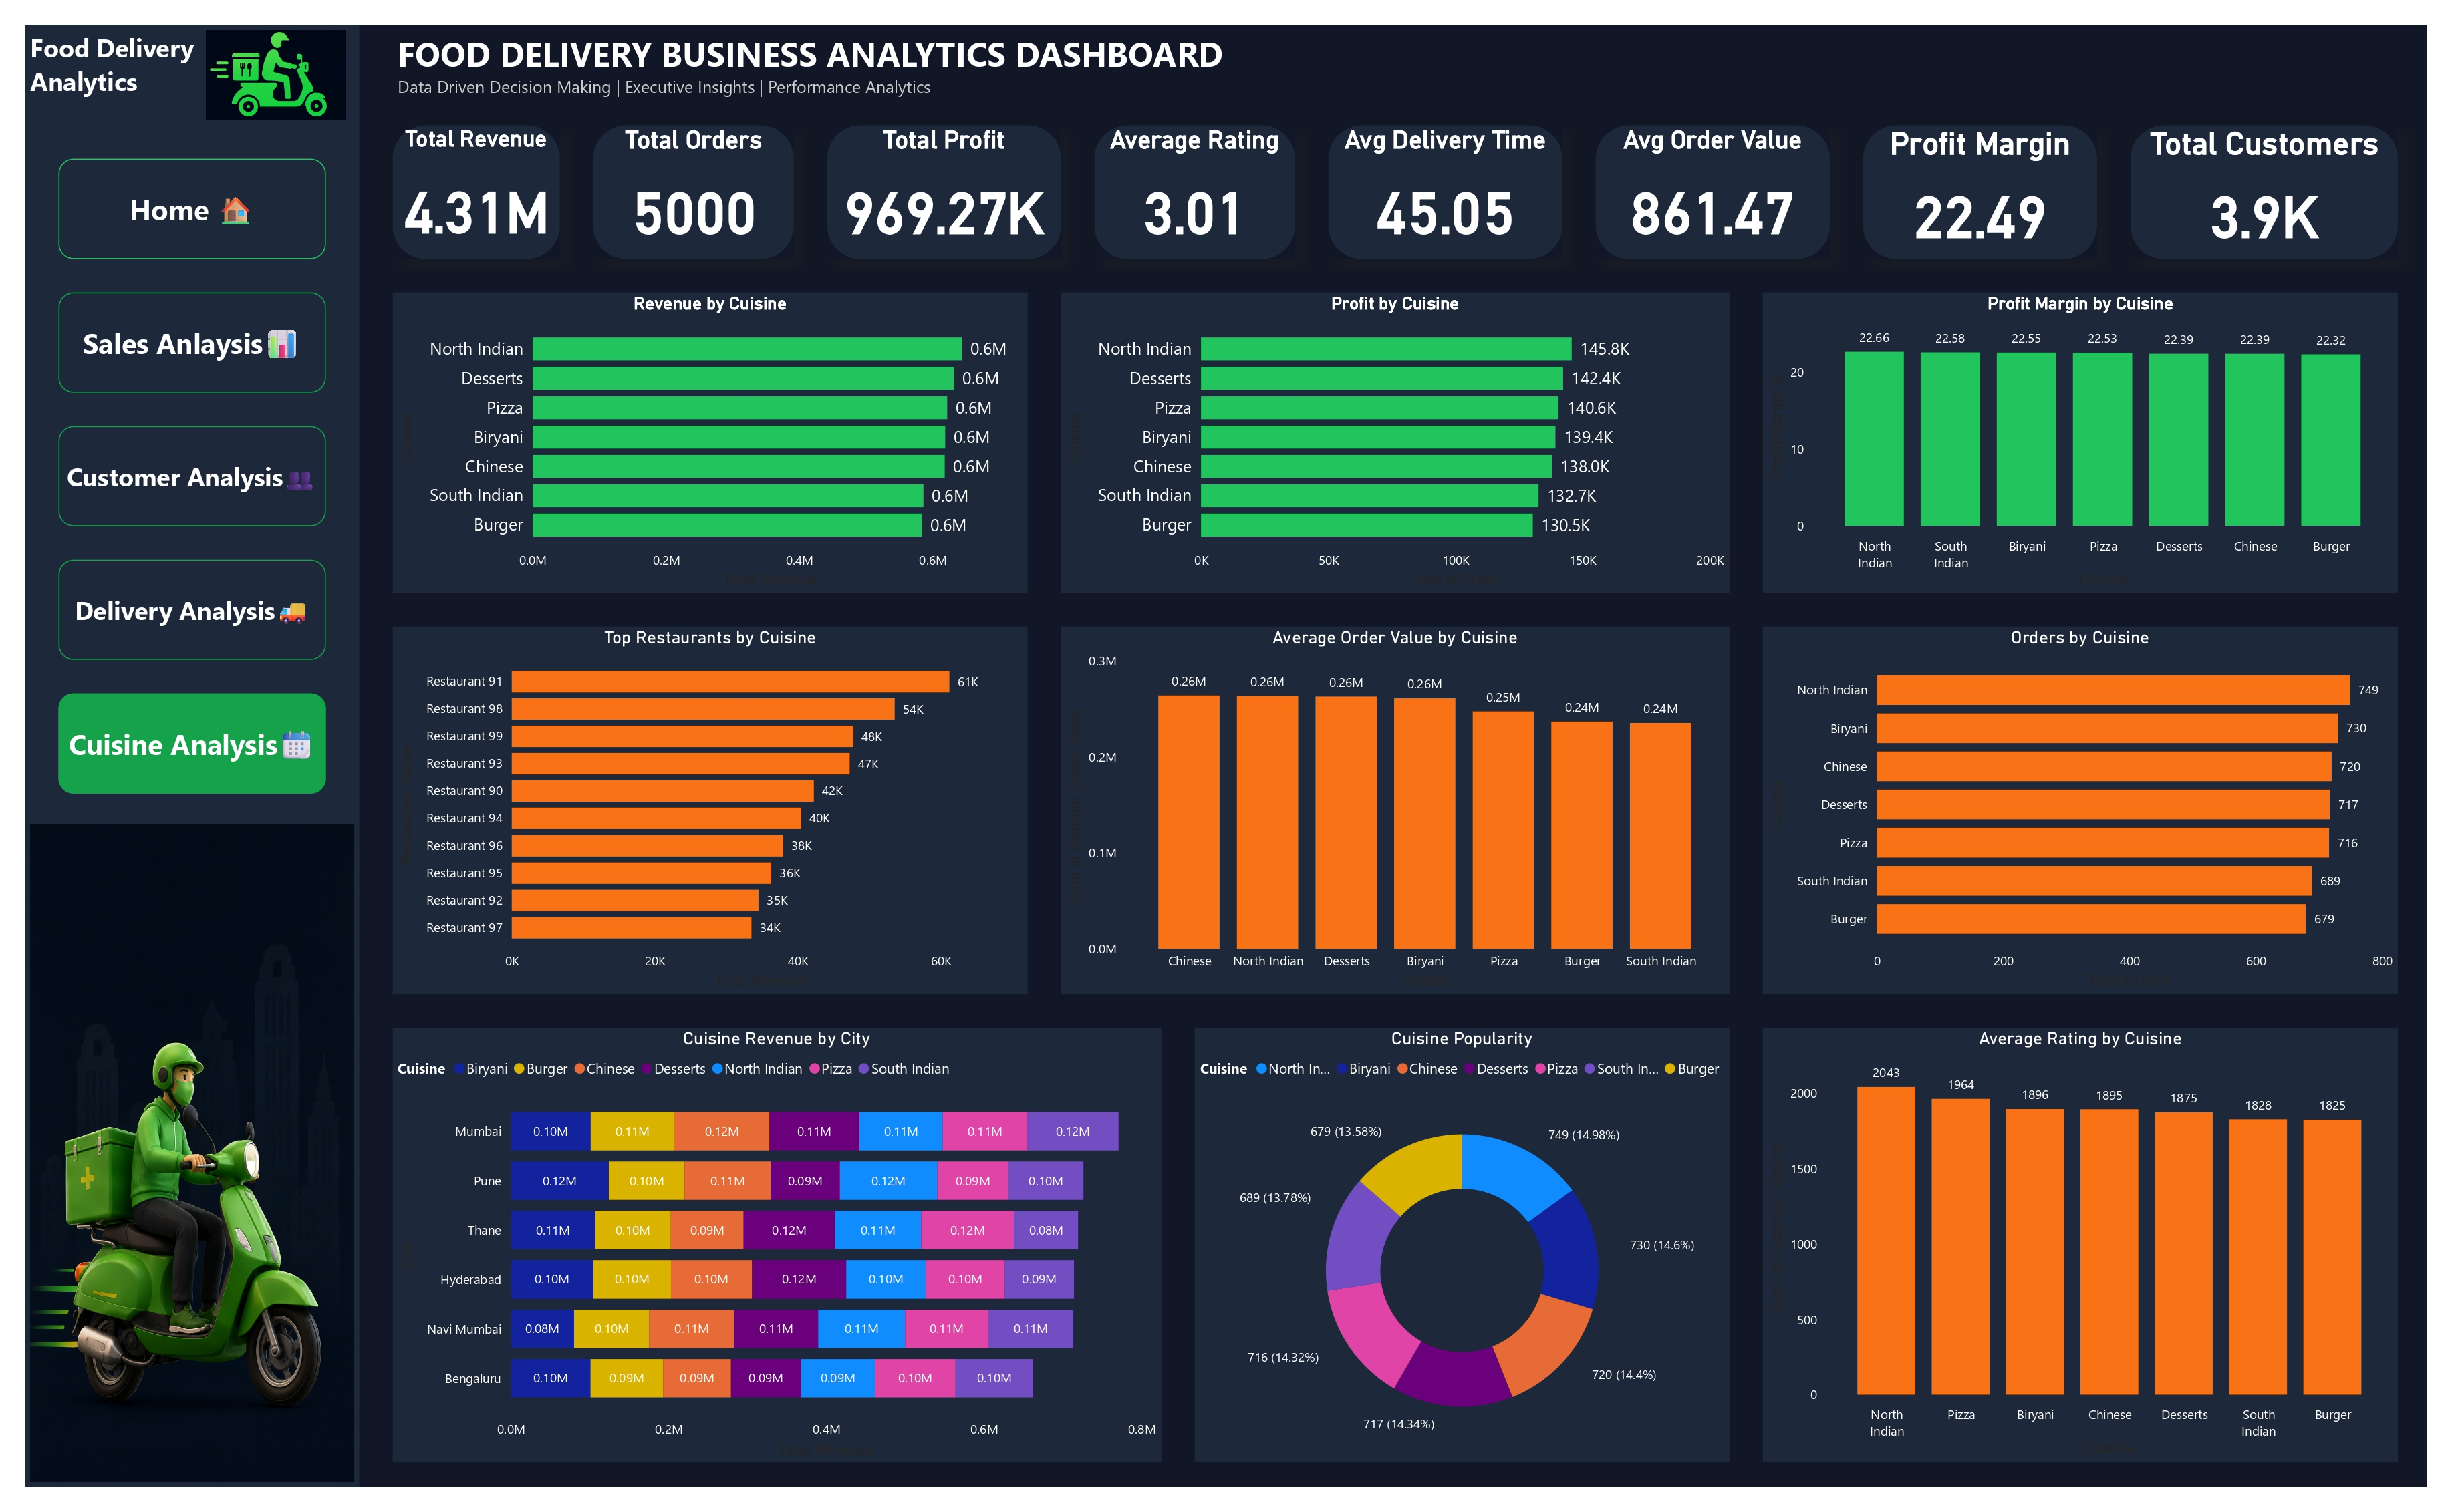

The page's visual inventory and layout, read from the dashboard file:
{"tool":"powerbi","page":{"name":"Cuisine Analysis📆","canvas":[2300,1400],"ordinal":4},"visuals":[{"type":"textbox","box":[352,0,1664,320],"z":0},{"type":"shape","box":[352,96,160,128],"z":1000},{"type":"shape","box":[2016,96,256,128],"z":2000},{"type":"shape","box":[1760,96,224,128],"z":3000},{"type":"shape","box":[1504,96,224,128],"z":4000},{"type":"shape","box":[1248,96,224,128],"z":5000},{"type":"shape","box":[1024,96,192,128],"z":6000},{"type":"shape","box":[768,96,224,128],"z":7000},{"type":"shape","box":[544,96,192,128],"z":8000},{"type":"card","title":"Total Revenue","fields":{"Values":["food_delivery_clean_updated.Total Revenue"]},"box":[352,96,160,128],"z":9000},{"type":"card","title":"Total Orders","fields":{"Values":["food_delivery_clean_updated.Total Orders"]},"box":[544,96,192,128],"z":10000},{"type":"card","title":"Total Profit","fields":{"Values":["food_delivery_clean_updated.Total Profit"]},"box":[768,96,224,128],"z":11000},{"type":"card","title":"Avg Order Value","fields":{"Values":["food_delivery_clean_updated.Average Order Value"]},"box":[1504,96,224,128],"z":12000},{"type":"card","title":"Average Rating","fields":{"Values":["food_delivery_clean_updated.Average Rating"]},"box":[1024,96,192,128],"z":13000},{"type":"card","title":"Avg Delivery Time","fields":{"Values":["food_delivery_clean_updated.Avg Delivery Time"]},"box":[1248,96,224,128],"z":14000},{"type":"card","title":"Profit Margin ","fields":{"Values":["food_delivery_clean_updated.Profit Margin %"]},"box":[1760,96,224,128],"z":15000},{"type":"card","title":"Total Customers","fields":{"Values":["food_delivery_clean_updated.Total Customers"]},"box":[2016,96,256,128],"z":16000},{"type":"clusteredBarChart","title":"Revenue by Cuisine","fields":{"Category":["food_delivery_clean_updated.Cuisine"],"Y":["food_delivery_clean_updated.Total Revenue"]},"box":[352,256,608,288],"z":18000},{"type":"clusteredColumnChart","title":"Average Rating by Cuisine","fields":{"Category":["food_delivery_clean_updated.Cuisine"],"Y":["Sum(food_delivery_clean_updated.Customer_Rating)"]},"box":[1664,960,608,416],"z":19000},{"type":"clusteredBarChart","title":"Orders by Cuisine","fields":{"Category":["food_delivery_clean_updated.Cuisine"],"Y":["food_delivery_clean_updated.Total Orders"]},"box":[1664,576,608,352],"z":20000},{"type":"donutChart","title":"Cuisine Popularity","fields":{"Category":["food_delivery_clean_updated.Cuisine"],"Y":["CountNonNull(food_delivery_clean_updated.Order_ID)"]},"box":[1120,960,512,416],"z":24000},{"type":"clusteredColumnChart","title":"Profit Margin by Cuisine","fields":{"Category":["food_delivery_clean_updated.Cuisine"],"Y":["food_delivery_clean_updated.Profit Margin %"]},"box":[1664,256,608,288],"z":25000},{"type":"shape","box":[0,-40,320,1440],"z":28000},{"type":"image","box":[160,0,160,96],"z":29000},{"type":"textbox","box":[0,0,192,96],"z":30000},{"type":"image","box":[0,760,320,640],"z":31000},{"type":"shape","box":[32,128,256,96],"z":32000},{"type":"shape","box":[32,512,256,96],"z":33000},{"type":"shape","box":[32,256,256,96],"z":34000},{"type":"shape","box":[32,384,256,96],"z":35000},{"type":"shape","box":[32,640,256,96],"z":36000},{"type":"clusteredBarChart","title":"Profit by Cuisine","fields":{"Category":["food_delivery_clean_updated.Cuisine"],"Y":["Sum(food_delivery_clean_updated.Profit)"]},"box":[992,256,640,288],"z":36001},{"type":"clusteredColumnChart","title":"Average Order Value by Cuisine","fields":{"Category":["food_delivery_clean_updated.Cuisine"],"Y":["Sum(food_delivery_clean_updated.Average_Order_Value)"]},"box":[992,576,640,352],"z":36002},{"type":"barChart","title":"Cuisine Revenue by City","fields":{"Category":["food_delivery_clean_updated.City"],"Y":["food_delivery_clean_updated.Total Revenue"],"Series":["food_delivery_clean_updated.Cuisine"]},"box":[352,960,736,416],"z":36003},{"type":"clusteredBarChart","title":"Top Restaurants by Cuisine","fields":{"Category":["food_delivery_clean_updated.Restaurant_Name"],"Y":["food_delivery_clean_updated.Total Revenue"]},"box":[352,576,608,352],"z":36004}]}

Visuals, with their boxes on the page's 2300x1400 design canvas (x1, y1, x2, y2). These are canvas units, not pixel positions in the 2452x1512 screenshot, which may show the page scaled, cropped or inside an application window:
textbox: 352, 0, 2016, 320
shape: 352, 96, 512, 224
shape: 2016, 96, 2272, 224
shape: 1760, 96, 1984, 224
shape: 1504, 96, 1728, 224
shape: 1248, 96, 1472, 224
shape: 1024, 96, 1216, 224
shape: 768, 96, 992, 224
shape: 544, 96, 736, 224
"Total Revenue" card: 352, 96, 512, 224
"Total Orders" card: 544, 96, 736, 224
"Total Profit" card: 768, 96, 992, 224
"Avg Order Value" card: 1504, 96, 1728, 224
"Average Rating" card: 1024, 96, 1216, 224
"Avg Delivery Time" card: 1248, 96, 1472, 224
"Profit Margin " card: 1760, 96, 1984, 224
"Total Customers" card: 2016, 96, 2272, 224
"Revenue by Cuisine" clusteredBarChart: 352, 256, 960, 544
"Average Rating by Cuisine" clusteredColumnChart: 1664, 960, 2272, 1376
"Orders by Cuisine" clusteredBarChart: 1664, 576, 2272, 928
"Cuisine Popularity" donutChart: 1120, 960, 1632, 1376
"Profit Margin by Cuisine" clusteredColumnChart: 1664, 256, 2272, 544
shape: 0, -40, 320, 1400
image: 160, 0, 320, 96
textbox: 0, 0, 192, 96
image: 0, 760, 320, 1400
shape: 32, 128, 288, 224
shape: 32, 512, 288, 608
shape: 32, 256, 288, 352
shape: 32, 384, 288, 480
shape: 32, 640, 288, 736
"Profit by Cuisine" clusteredBarChart: 992, 256, 1632, 544
"Average Order Value by Cuisine" clusteredColumnChart: 992, 576, 1632, 928
"Cuisine Revenue by City" barChart: 352, 960, 1088, 1376
"Top Restaurants by Cuisine" clusteredBarChart: 352, 576, 960, 928
